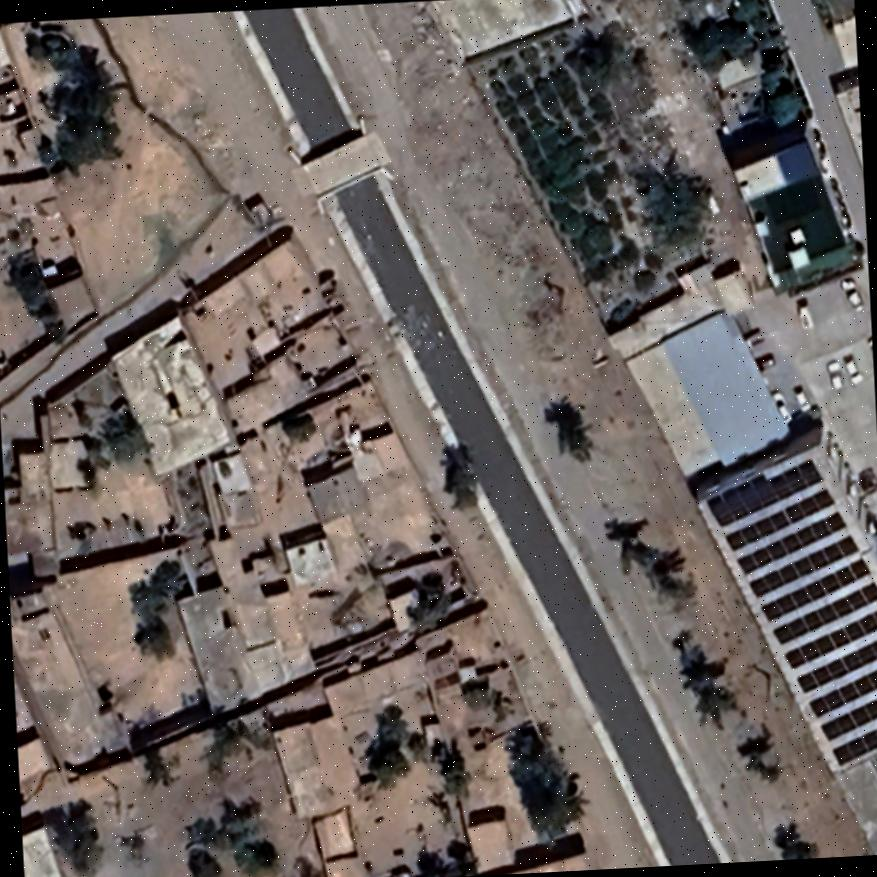Solarpanel: (699, 437, 877, 778)
